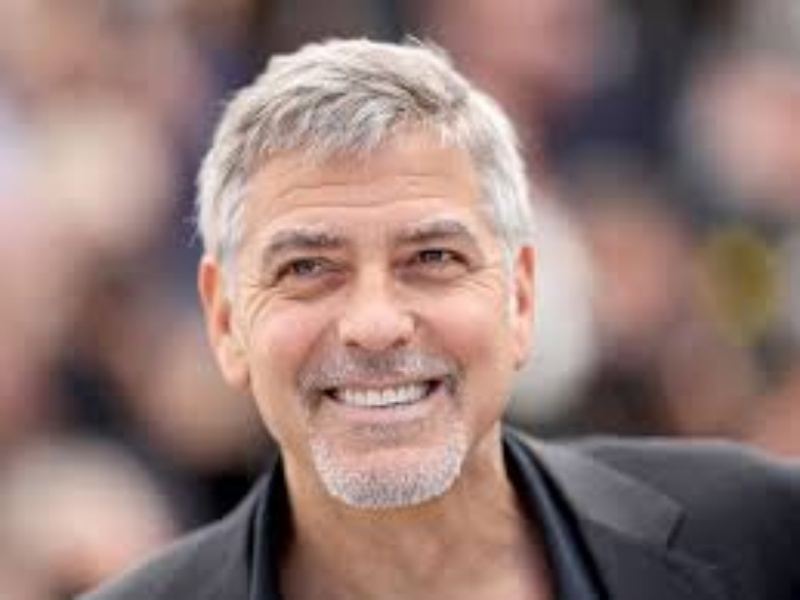face: (249, 175, 504, 451)
